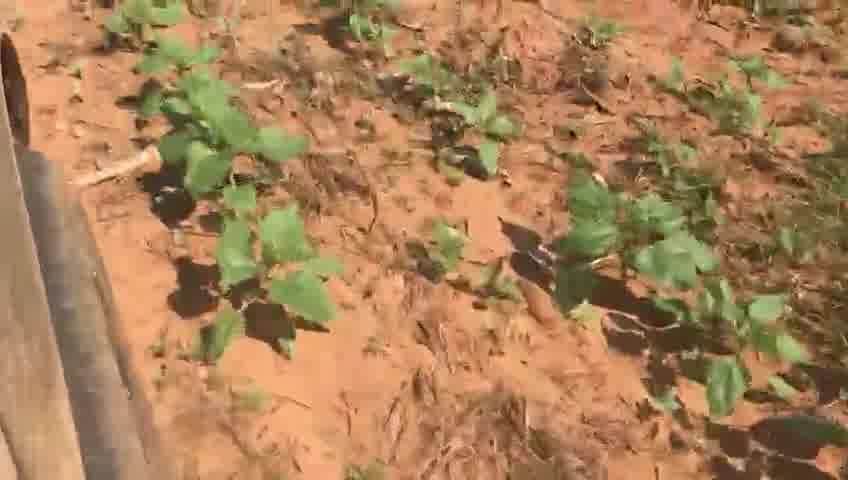sunflower: (554, 161, 688, 319), (201, 214, 339, 358), (170, 111, 308, 219), (699, 284, 808, 419), (651, 223, 752, 343), (144, 74, 252, 175), (437, 83, 515, 171), (725, 47, 796, 128), (122, 34, 230, 75), (394, 52, 458, 103)
